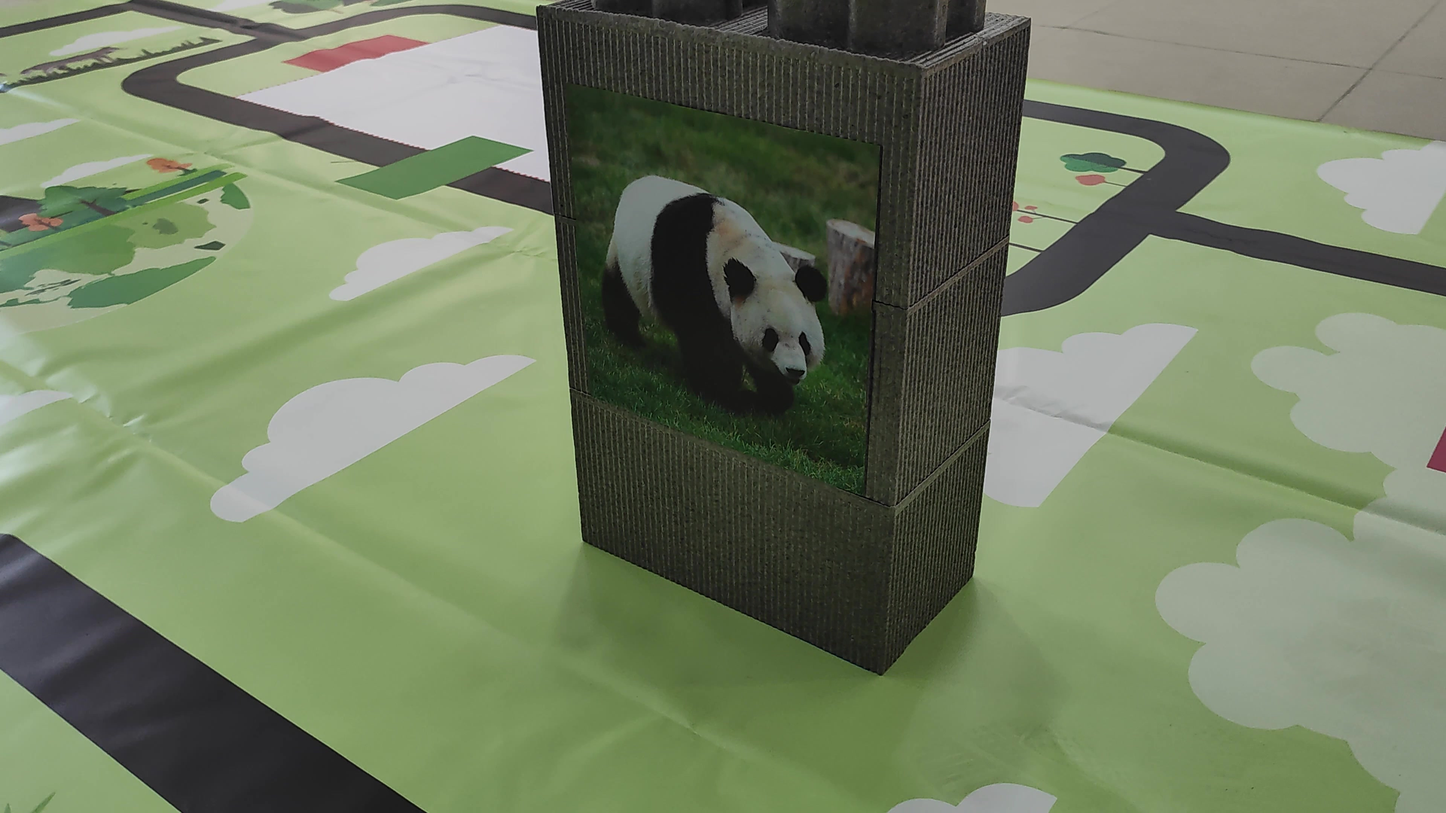panda: (565, 111, 861, 432)
